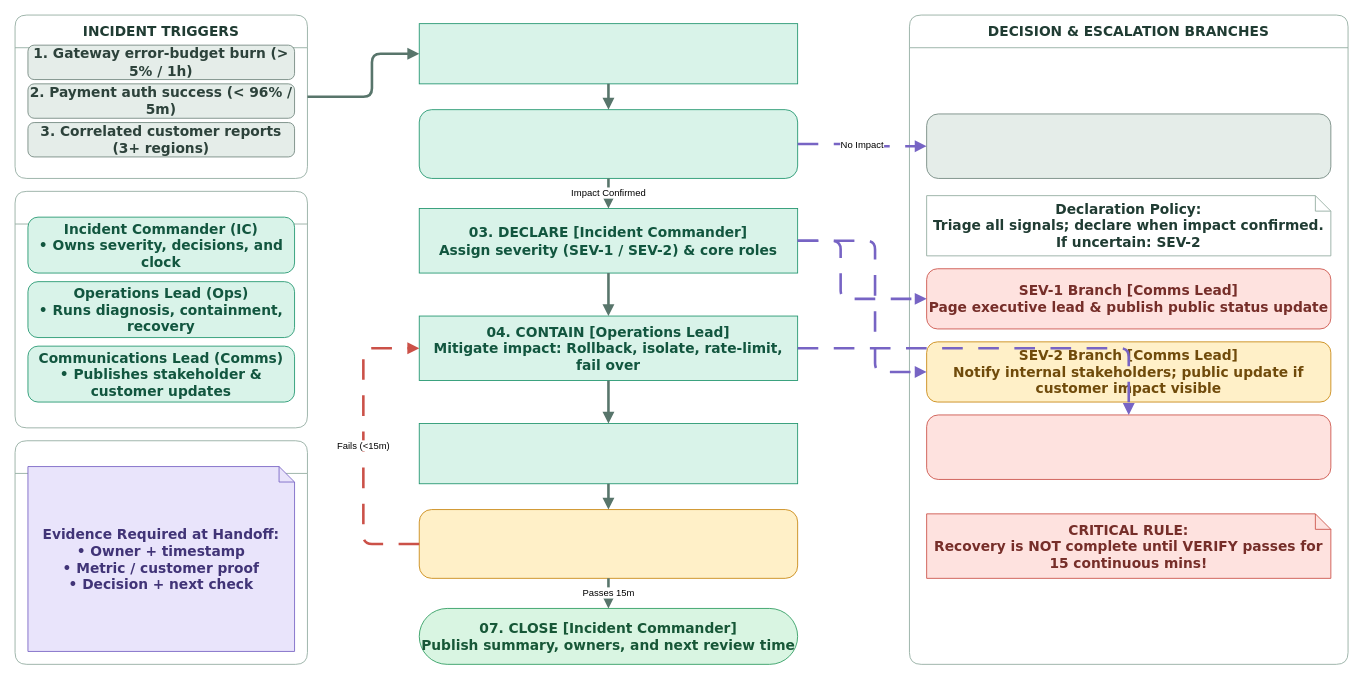
Some shapes in this 1363 by 679 pixel diagram are drawn without their labels. The shapes that lost their labels are listed below. From the top down, each one's box as (x1, y1, x2, y2) in pixels, then its label:
(418, 23, 798, 84): 01. DETECT [Ops Lead] Capture alert, service, region & timestamp
(418, 109, 798, 178): 02. VALIDATE [Ops Lead & IC] Compare telemetry & customer proof; reject noise
(926, 113, 1331, 178): Impact Not Confirmed Close as NO INCIDENT & attach evidence
(14, 190, 307, 428): CORE ROLES & RESPONSIBILITIES
(418, 423, 798, 484): 05. RECOVER [Operations Lead] Restore service & clear queued work safely
(926, 414, 1331, 479): Rollback Fails [Ops Lead] Isolate affected region, then fail traffic over
(14, 440, 307, 664): HANDOFF EVIDENCE CHECKLIST
(418, 509, 798, 578): 06. VERIFY [Ops Lead & IC] Hold key signals inside target for 15 continuous mins
